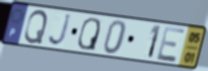0: (102, 19, 127, 56)
1: (147, 24, 163, 61)
E: (155, 26, 188, 65)
J: (47, 13, 73, 48)
Q: (23, 9, 50, 46), (77, 16, 102, 52)
